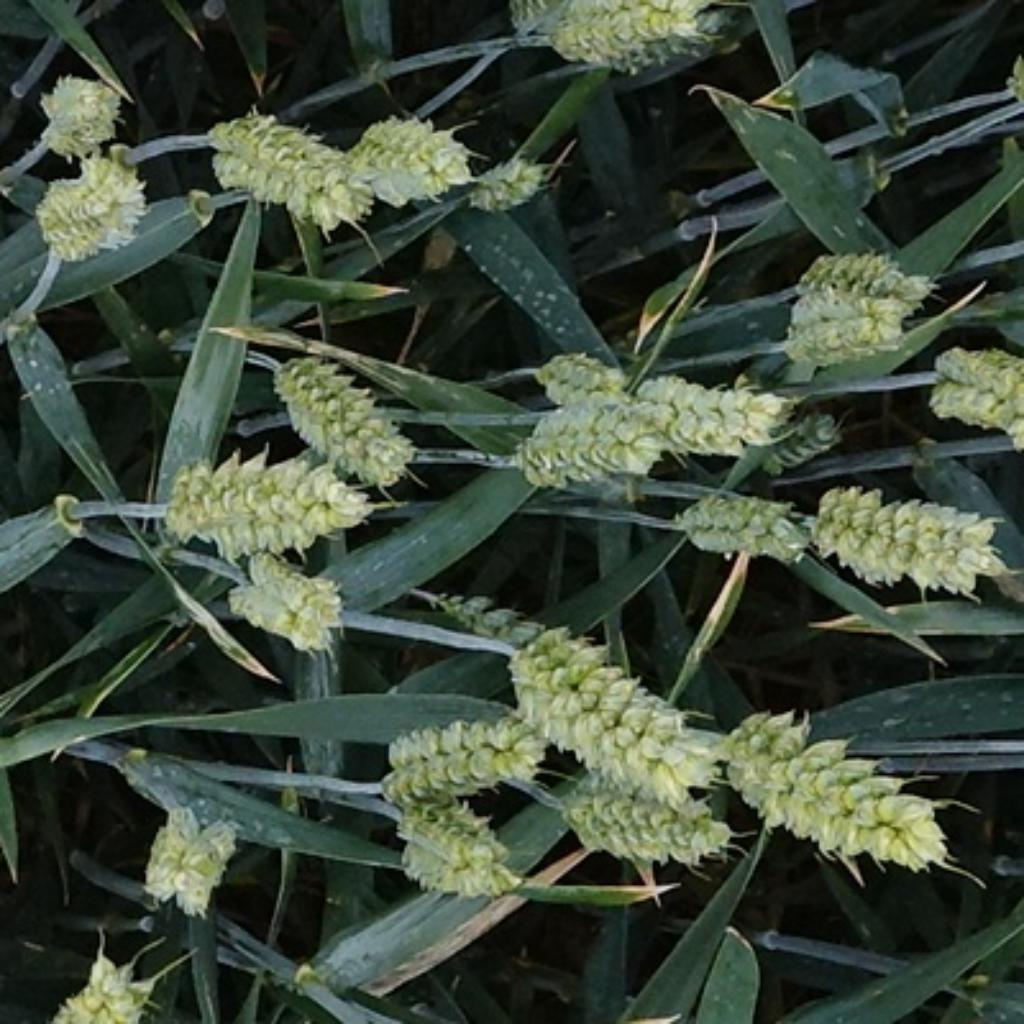0-0: (711, 701, 982, 899), (502, 591, 712, 768), (256, 337, 430, 490), (156, 440, 368, 561), (202, 94, 377, 238), (811, 483, 1024, 596), (547, 765, 734, 875), (366, 693, 547, 801), (537, 0, 758, 82), (501, 394, 663, 504), (609, 366, 803, 455), (384, 791, 519, 901), (134, 794, 244, 924), (29, 156, 154, 267), (784, 231, 937, 319), (221, 558, 352, 656), (344, 110, 472, 210), (919, 332, 1023, 451), (665, 491, 811, 570), (771, 293, 914, 370), (39, 940, 157, 1022), (27, 71, 130, 164), (419, 578, 542, 652), (519, 343, 629, 404), (464, 154, 556, 223), (765, 409, 855, 478)
